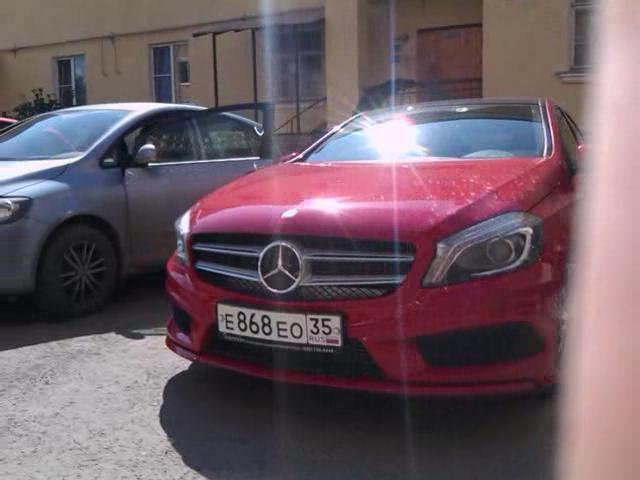license-plateSW: (216, 303, 343, 348)
